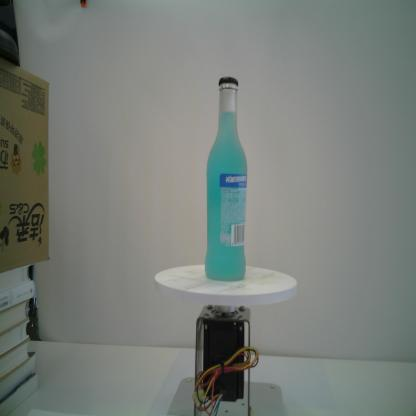Alcohol: (204, 75, 248, 282)
